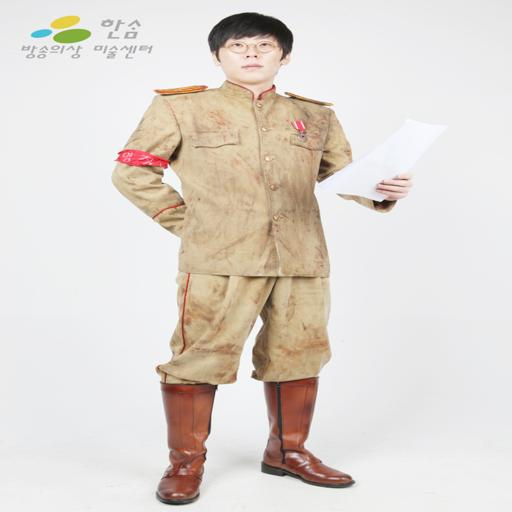north army: (131, 14, 396, 476)
